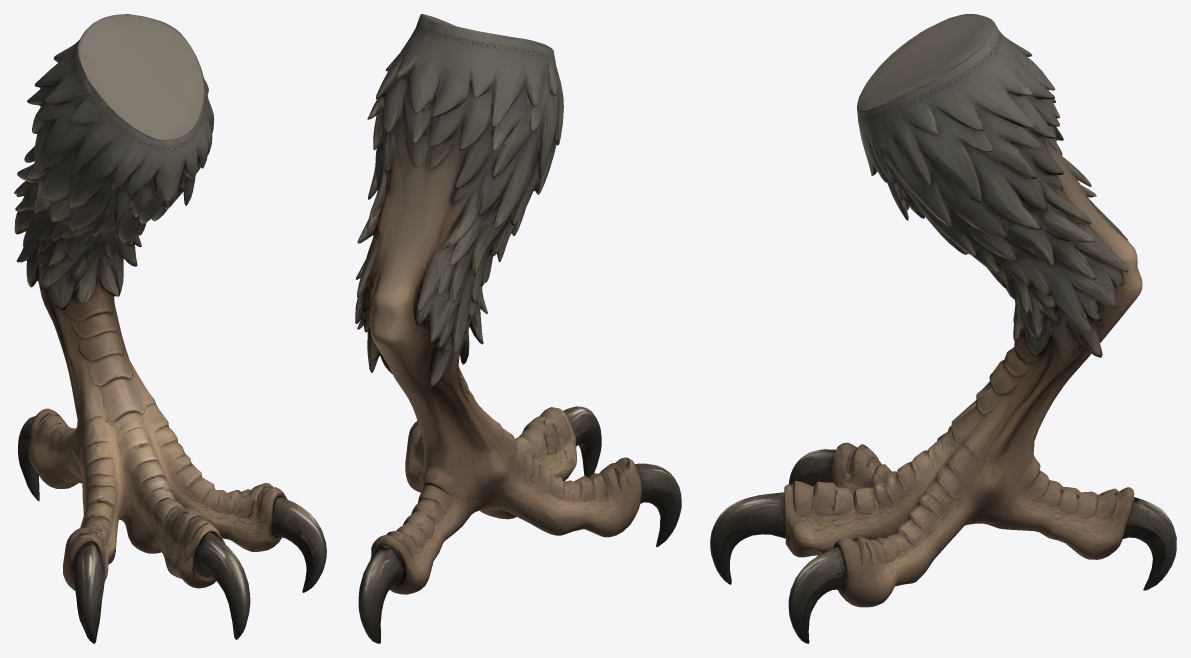
File: niaozhua_game.glb
3 views of the same model, side by side, from view 1: azimuth 30°, elevation 25°; view 2: azimuth 150°, elevation 25°; view 3: azimuth 270°, elevation 25° (orthographic). The views are drawn at different scales.
Parts seen in each view (by area): view 1: node_0; view 2: node_0; view 3: node_0.
Part boxes in pixels (box(x1,y1,x2,y2)): node_0: box(14, 14, 326, 643); node_0: box(355, 14, 681, 643); node_0: box(710, 14, 1176, 643).
Bounding box in the file's own units: 0.4789 × 1 × 0.7526.
Materials: 1 (1 with a texture image).
